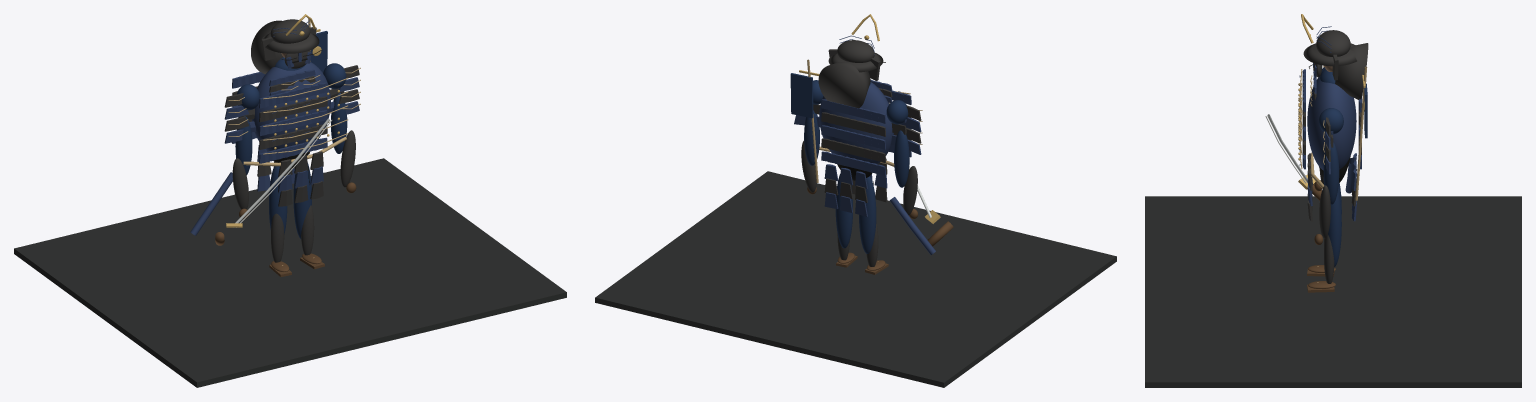
File: actor-uesugi-02.glb
The picture shows the model from 3 angles, left to right: view 1: azimuth 30°, elevation 25°; view 2: azimuth 150°, elevation 25°; view 3: azimuth 270°, elevation 25°; orthographic projection. The views are drawn at different scales.
Parts seen in each view (by area): view 1: matte charcoal inspection plinth, rounded do cuirass silhouette, rear shikoro neck guard flare, segmented kabuto helmet bowl, right armored upper arm, right kote forearm guard, left kote forearm guard, wide kabuto brim, left hakama trouser leg, right hakama trouser leg, left armored upper arm, left shin greave (+2 smaller); view 2: matte charcoal inspection plinth, rear shikoro neck guard flare, rounded do cuirass silhouette, cloth sashimono banner panel, left hakama trouser leg, left armored upper arm, segmented kabuto helmet bowl, right hakama trouser leg, right armored upper arm, left kote forearm guard, lacquered saya scabbard at left hip; view 3: matte charcoal inspection plinth, rounded do cuirass silhouette, rear shikoro neck guard flare, segmented kabuto helmet bowl, right hakama trouser leg, wide kabuto brim, right armored upper arm, right kote forearm guard, right shoulder undercloth, right shin greave, bamboo sashimono back pole.
Boxes of the visible parts, x1,y1,x2,y2 form: matte charcoal inspection plinth: (14,158,566,387); rounded do cuirass silhouette: (252,62,330,151); rear shikoro neck guard flare: (251,20,283,74); segmented kabuto helmet bowl: (270,19,310,43); right armored upper arm: (331,93,347,153); right kote forearm guard: (340,130,355,187); left kote forearm guard: (232,158,248,209); wide kabuto brim: (261,33,319,53); left hakama trouser leg: (269,166,287,234); right hakama trouser leg: (293,163,311,239); left armored upper arm: (235,116,252,175); left shin greave: (271,213,284,262); matte charcoal inspection plinth: (595,171,1116,387); rear shikoro neck guard flare: (818,61,870,108); rounded do cuirass silhouette: (819,82,893,164); cloth sashimono banner panel: (790,73,813,118); left hakama trouser leg: (859,176,876,253); left armored upper arm: (894,130,909,187); segmented kabuto helmet bowl: (837,40,874,62); right hakama trouser leg: (835,173,852,248); right armored upper arm: (804,110,819,165); left kote forearm guard: (903,166,917,215); lacquered saya scabbard at left hip: (889,197,935,254); matte charcoal inspection plinth: (1145,196,1521,387); rounded do cuirass silhouette: (1307,76,1356,170); rear shikoro neck guard flare: (1335,43,1368,99); segmented kabuto helmet bowl: (1316,30,1350,56); right hakama trouser leg: (1328,189,1341,267); wide kabuto brim: (1303,43,1356,66); right armored upper arm: (1323,142,1339,204); right kote forearm guard: (1319,185,1330,238); right shoulder undercloth: (1319,108,1343,134); right shin greave: (1324,234,1334,283); bamboo sashimono back pole: (1355,66,1367,200).
Size of the model in its own units: 4.2 by 2.96 by 3.6.
